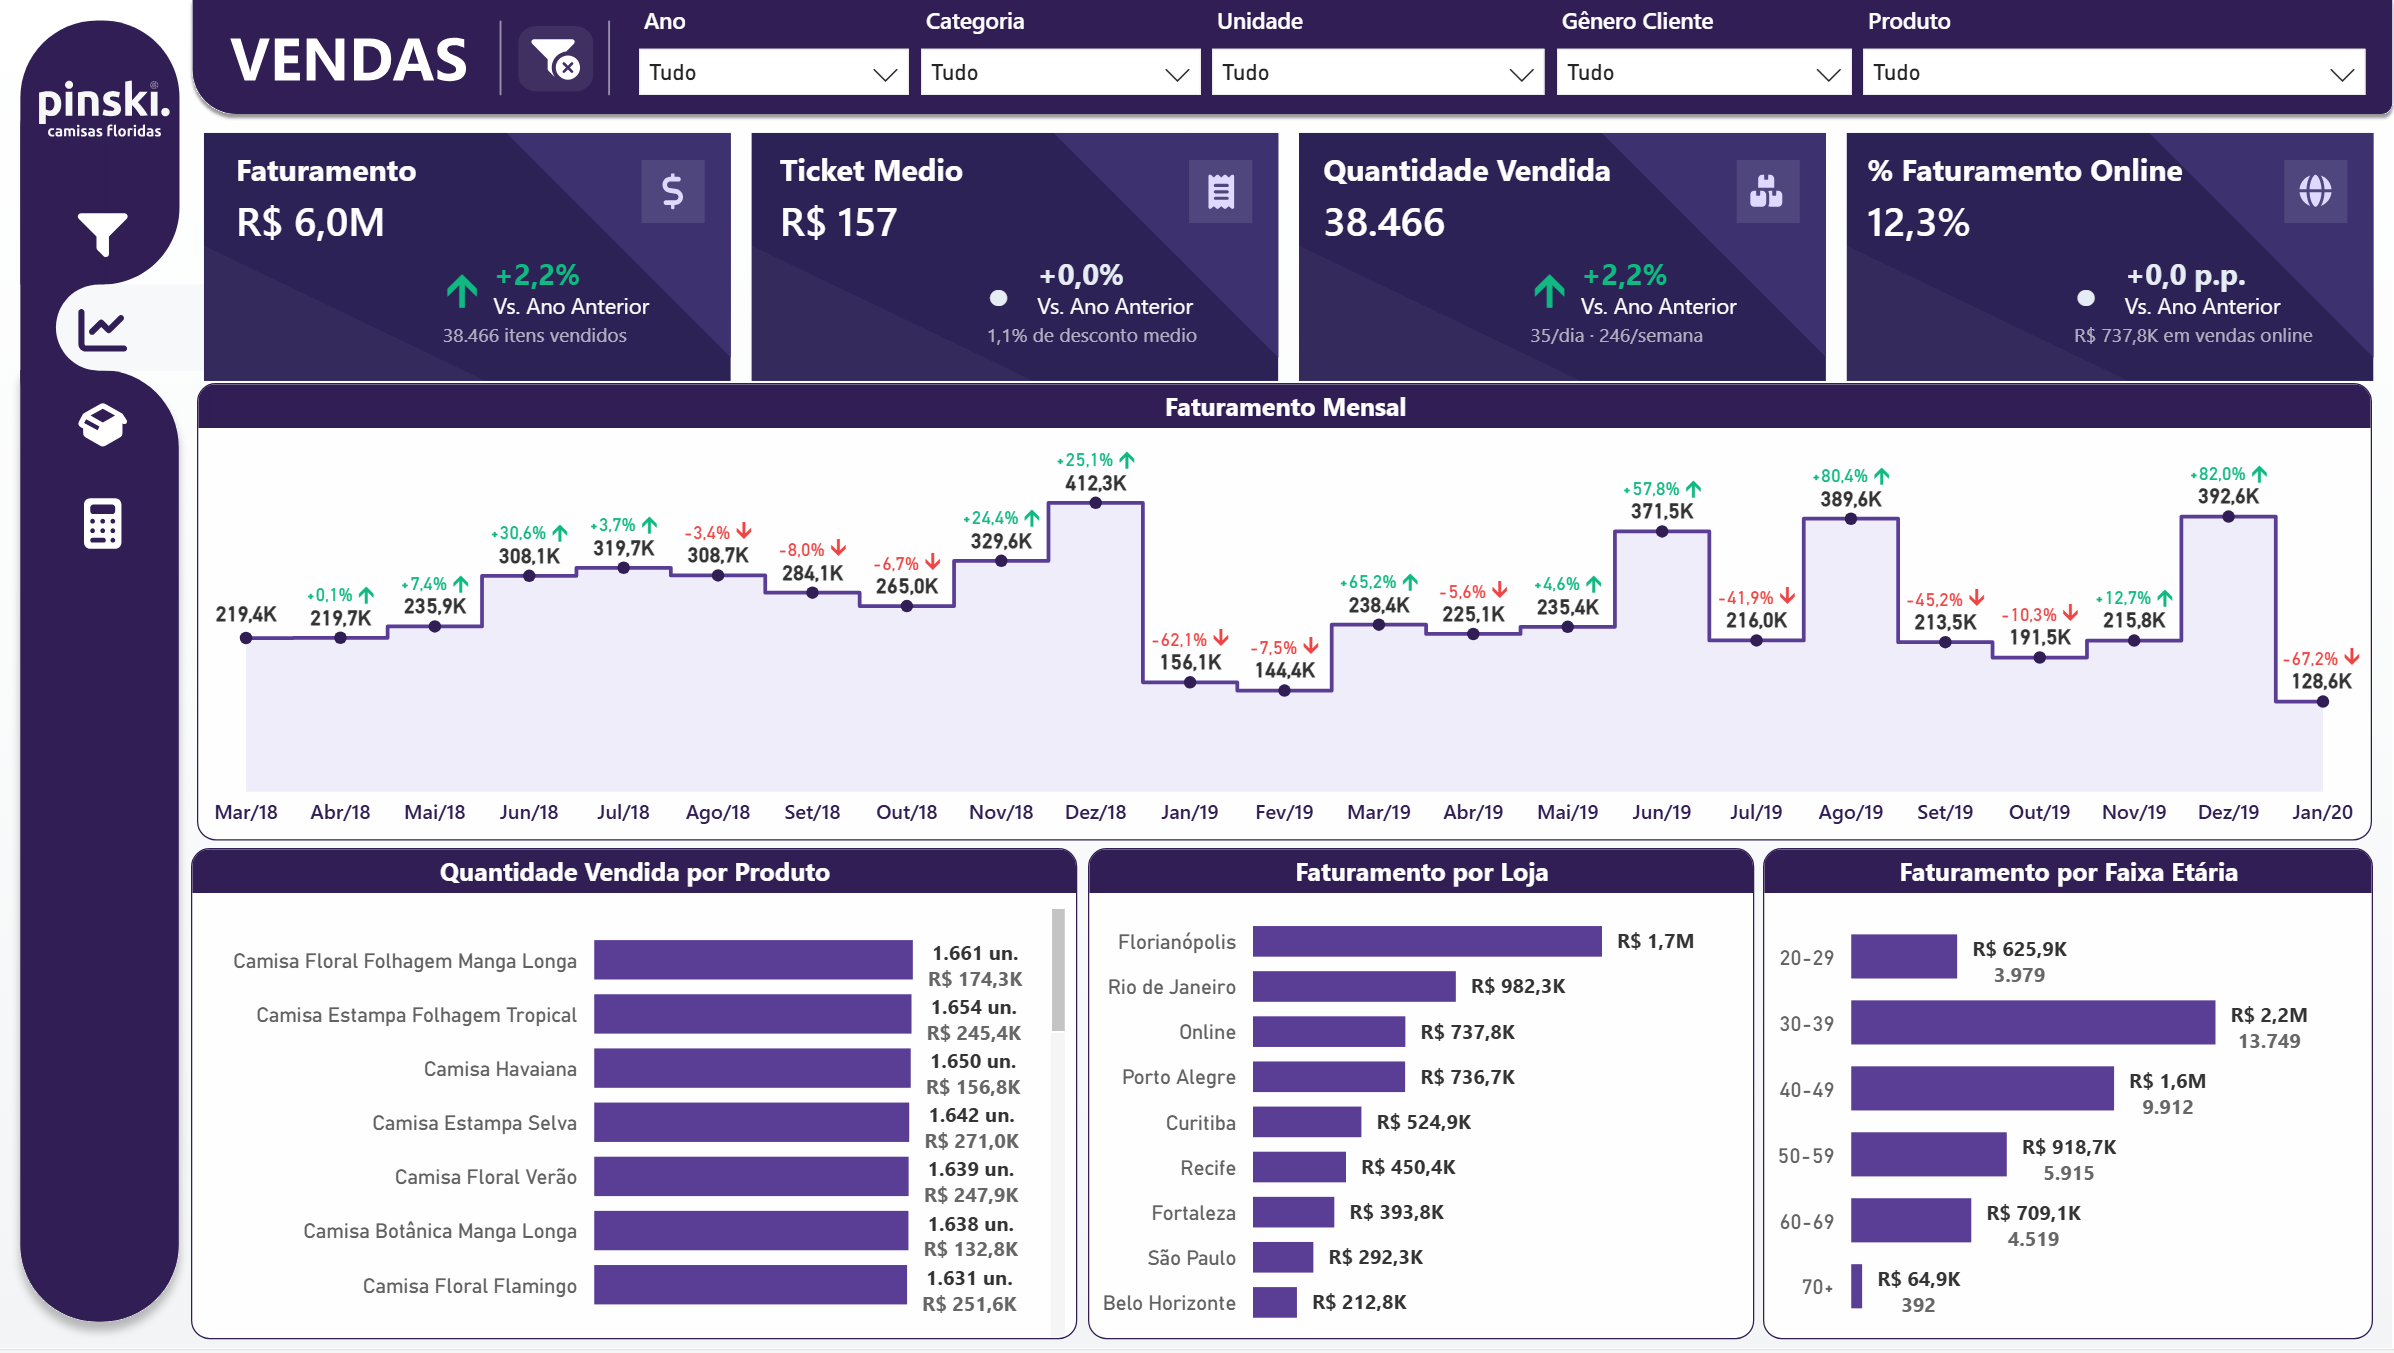

Layout of this report page (visuals, bound fields, positions):
{"tool":"powerbi","page":{"name":"Vendas","canvas":[1280,720],"ordinal":1},"visuals":[{"type":"group","id":"g1","title":"g_topbar","box":[268.2,3.1,1001,58.2],"z":0},{"type":"group","id":"g2","title":"g_filtros","box":[338,3.1,931.2,58.2],"z":0,"group":"g1"},{"type":"slicer","title":"Produto","fields":{"Values":["Dim_Produto.Produto"]},"box":[990.8,3.3,278.4,57],"z":0,"group":"g2"},{"type":"cardVisual","fields":{"Data":["_Medidas.Faturamento","_Medidas.Ticket Medio","_Medidas.Quantidade Vendida","_Medidas.% Faturamento Online"]},"box":[108.3,62.7,1171.2,141.1],"z":0,"group":"g3"},{"type":"card","title":"TT_V_ top_10_vendidos","fields":{"Values":["_Medidas.Cfg Trigger Hover Tooltip"]},"box":[694,71,282,131],"z":0,"group":"g4"},{"type":"actionButton","title":"btn_simulação","box":[35.5,261.1,42.3,41.3],"z":0,"group":"g5"},{"type":"slicer","title":"Gênero Cliente","fields":{"Values":["Fact_Vendas.GeneroCliente"]},"box":[827.3,3.3,167.6,57],"z":1000,"group":"g2"},{"type":"actionButton","title":"btn_reset_filtro_rapido","box":[268.2,9.7,60,40.9],"z":1000,"group":"g1"},{"type":"group","id":"g3","title":"g_dados","box":[103.9,62.7,1175.6,652.5],"z":1000},{"type":"card","title":"TT_V_desconto_perfil_lider","fields":{"Values":["_Medidas.Cfg Trigger Hover Tooltip"]},"box":[108,71,282,131],"z":1000,"group":"g4"},{"type":"actionButton","title":"btn_devoluções","box":[35.6,203,42.2,41.1],"z":1000,"group":"g5"},{"type":"lineChart","title":"Faturamento Mensal","fields":{"Category":["Calendario.MesAnoTexto"],"Y":["_Medidas.Rotulo Faturamento"]},"box":[107.5,205,1160,244],"z":1000,"group":"g3"},{"type":"group","id":"g4","title":"g_tooltips","box":[108,71,868,131],"z":1500},{"type":"slicer","title":"Unidade","fields":{"Values":["Fact_Vendas.Unidade"]},"box":[643.5,3.3,187.9,57],"z":2000,"group":"g2"},{"type":"group","id":"g5","title":"g_btn_navegacao","box":[19,33,75,269.4],"z":2000},{"type":"actionButton","title":"btn_vendas","box":[35,155.2,42.2,41.3],"z":2000,"group":"g5"},{"type":"clusteredBarChart","fields":{"Category":["Dim_Produto.Produto"],"Y":["_Medidas.Quantidade Vendida"]},"box":[103.9,453,472.5,262.2],"z":2000,"group":"g3"},{"type":"slicer","title":"Categoria","fields":{"Values":["Dim_Produto.Categoria"]},"box":[488,3.1,159.5,58.2],"z":3000,"group":"g2"},{"type":"actionButton","title":"btn_menu_on","box":[35.8,104.2,42.1,41.1],"z":3000,"group":"g5"},{"type":"clusteredBarChart","title":"Faturamento por Loja","fields":{"Category":["Fact_Vendas.Unidade"],"Y":["_Medidas.Faturamento"]},"box":[582.5,453.3,355,261.7],"z":3000,"group":"g3"},{"type":"slicer","title":"Ano","fields":{"Values":["Dim_Calendario.Ano"]},"box":[338,3.1,154.1,58.2],"z":4000,"group":"g2"},{"type":"actionButton","title":"btn_home","box":[19,33,75,46.4],"z":4000,"group":"g5"},{"type":"clusteredBarChart","title":"Faturamento por Faixa Etária","fields":{"Category":["Fact_Vendas.FaixaEtaria"],"Y":["_Medidas.Faturamento"]},"box":[942.5,453.3,325,261.7],"z":4000,"group":"g3"}]}

Visuals, with their boxes in screenshot pixels (x1, y1, x2, y2), scaled from the page's 1280x720 canvas onto the 2394x1353 screenshot:
"g_topbar" group: (502,6,2374,115)
"g_filtros" group: (632,6,2374,115)
"Produto" slicer: (1853,6,2374,113)
cardVisual - _Medidas.Faturamento x _Medidas.Ticket Medio: (203,118,2393,383)
"TT_V_ top_10_vendidos" card: (1298,133,1825,380)
"btn_simulação" actionButton: (66,491,146,568)
"Gênero Cliente" slicer: (1547,6,1861,113)
"btn_reset_filtro_rapido" actionButton: (502,18,614,95)
"g_dados" group: (194,118,2393,1344)
"TT_V_desconto_perfil_lider" card: (202,133,729,380)
"btn_devoluções" actionButton: (67,381,146,459)
"Faturamento Mensal" lineChart: (201,385,2371,844)
"g_tooltips" group: (202,133,1825,380)
"Unidade" slicer: (1204,6,1555,113)
"g_btn_navegacao" group: (36,62,176,568)
"btn_vendas" actionButton: (65,292,144,369)
clusteredBarChart - Dim_Produto.Produto x _Medidas.Quantidade Vendida: (194,851,1078,1344)
"Categoria" slicer: (913,6,1211,115)
"btn_menu_on" actionButton: (67,196,146,273)
"Faturamento por Loja" clusteredBarChart: (1089,852,1753,1344)
"Ano" slicer: (632,6,920,115)
"btn_home" actionButton: (36,62,176,149)
"Faturamento por Faixa Etária" clusteredBarChart: (1763,852,2371,1344)
